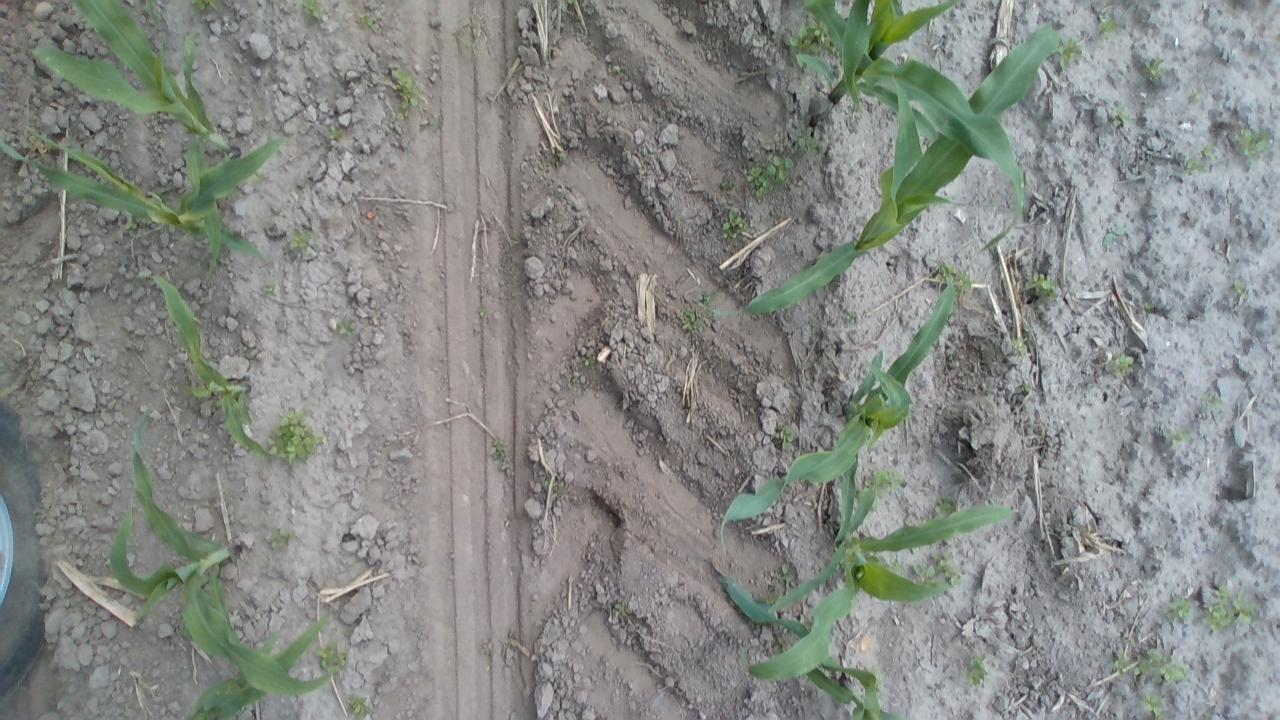Maize: (714, 19, 1062, 318), (720, 260, 957, 554), (112, 404, 324, 697), (790, 0, 1028, 252), (738, 476, 1018, 680), (24, 0, 246, 195), (4, 124, 288, 264), (706, 556, 914, 718), (143, 269, 298, 468), (180, 605, 339, 718)
Weeds: (266, 408, 322, 464), (1202, 580, 1258, 632), (1126, 647, 1190, 684), (745, 154, 796, 198), (389, 64, 422, 122), (784, 19, 834, 56), (1238, 124, 1272, 162), (1112, 634, 1136, 678), (960, 653, 989, 688), (318, 642, 347, 676), (1161, 594, 1193, 624), (722, 208, 752, 240), (1024, 272, 1058, 300), (934, 551, 962, 585), (870, 469, 905, 494), (1056, 39, 1084, 68), (1139, 691, 1167, 719), (1200, 384, 1226, 413), (489, 436, 511, 470), (1108, 352, 1136, 378), (768, 564, 794, 590), (346, 694, 373, 719), (1182, 153, 1210, 177), (540, 471, 566, 496), (1166, 425, 1190, 452), (792, 129, 818, 153), (1144, 58, 1168, 84), (680, 308, 706, 332), (459, 28, 483, 54), (268, 528, 296, 550), (500, 626, 516, 664), (1097, 14, 1120, 40), (288, 228, 314, 251), (912, 560, 939, 582), (1104, 224, 1128, 248), (1195, 142, 1218, 166), (936, 259, 958, 284), (298, 0, 324, 20), (934, 497, 958, 518), (776, 425, 796, 449), (1109, 103, 1129, 126), (956, 266, 976, 288), (771, 635, 791, 655), (697, 288, 717, 308), (422, 112, 442, 132), (719, 176, 738, 197), (1231, 280, 1250, 300), (1014, 336, 1032, 357), (358, 12, 376, 33), (612, 599, 630, 619), (1186, 86, 1204, 106), (612, 60, 628, 82), (190, 0, 222, 11), (553, 144, 568, 166), (336, 318, 354, 336), (478, 640, 496, 658), (506, 230, 522, 250), (564, 372, 582, 389), (262, 281, 280, 298), (760, 591, 780, 606), (580, 352, 598, 368), (328, 125, 345, 141), (125, 216, 142, 232), (1141, 298, 1157, 314), (477, 276, 491, 294), (848, 310, 865, 324), (476, 306, 489, 322), (1020, 382, 1034, 395), (540, 156, 552, 170), (566, 0, 577, 5)
